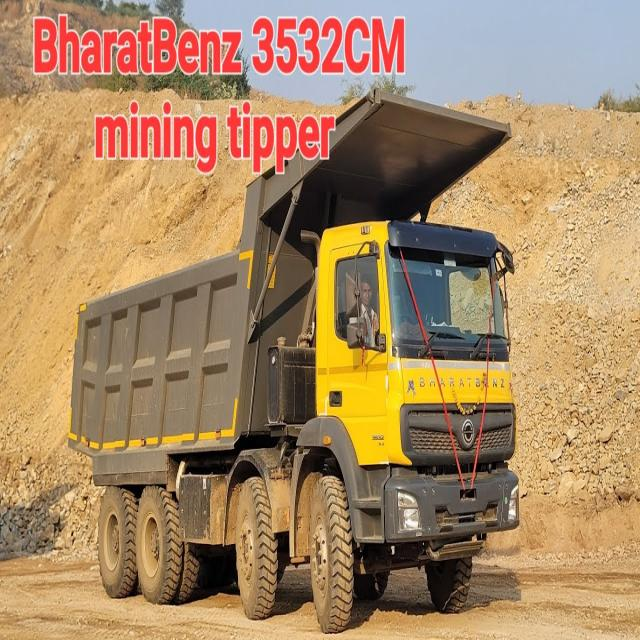dump_truck: (83, 83, 520, 635)
